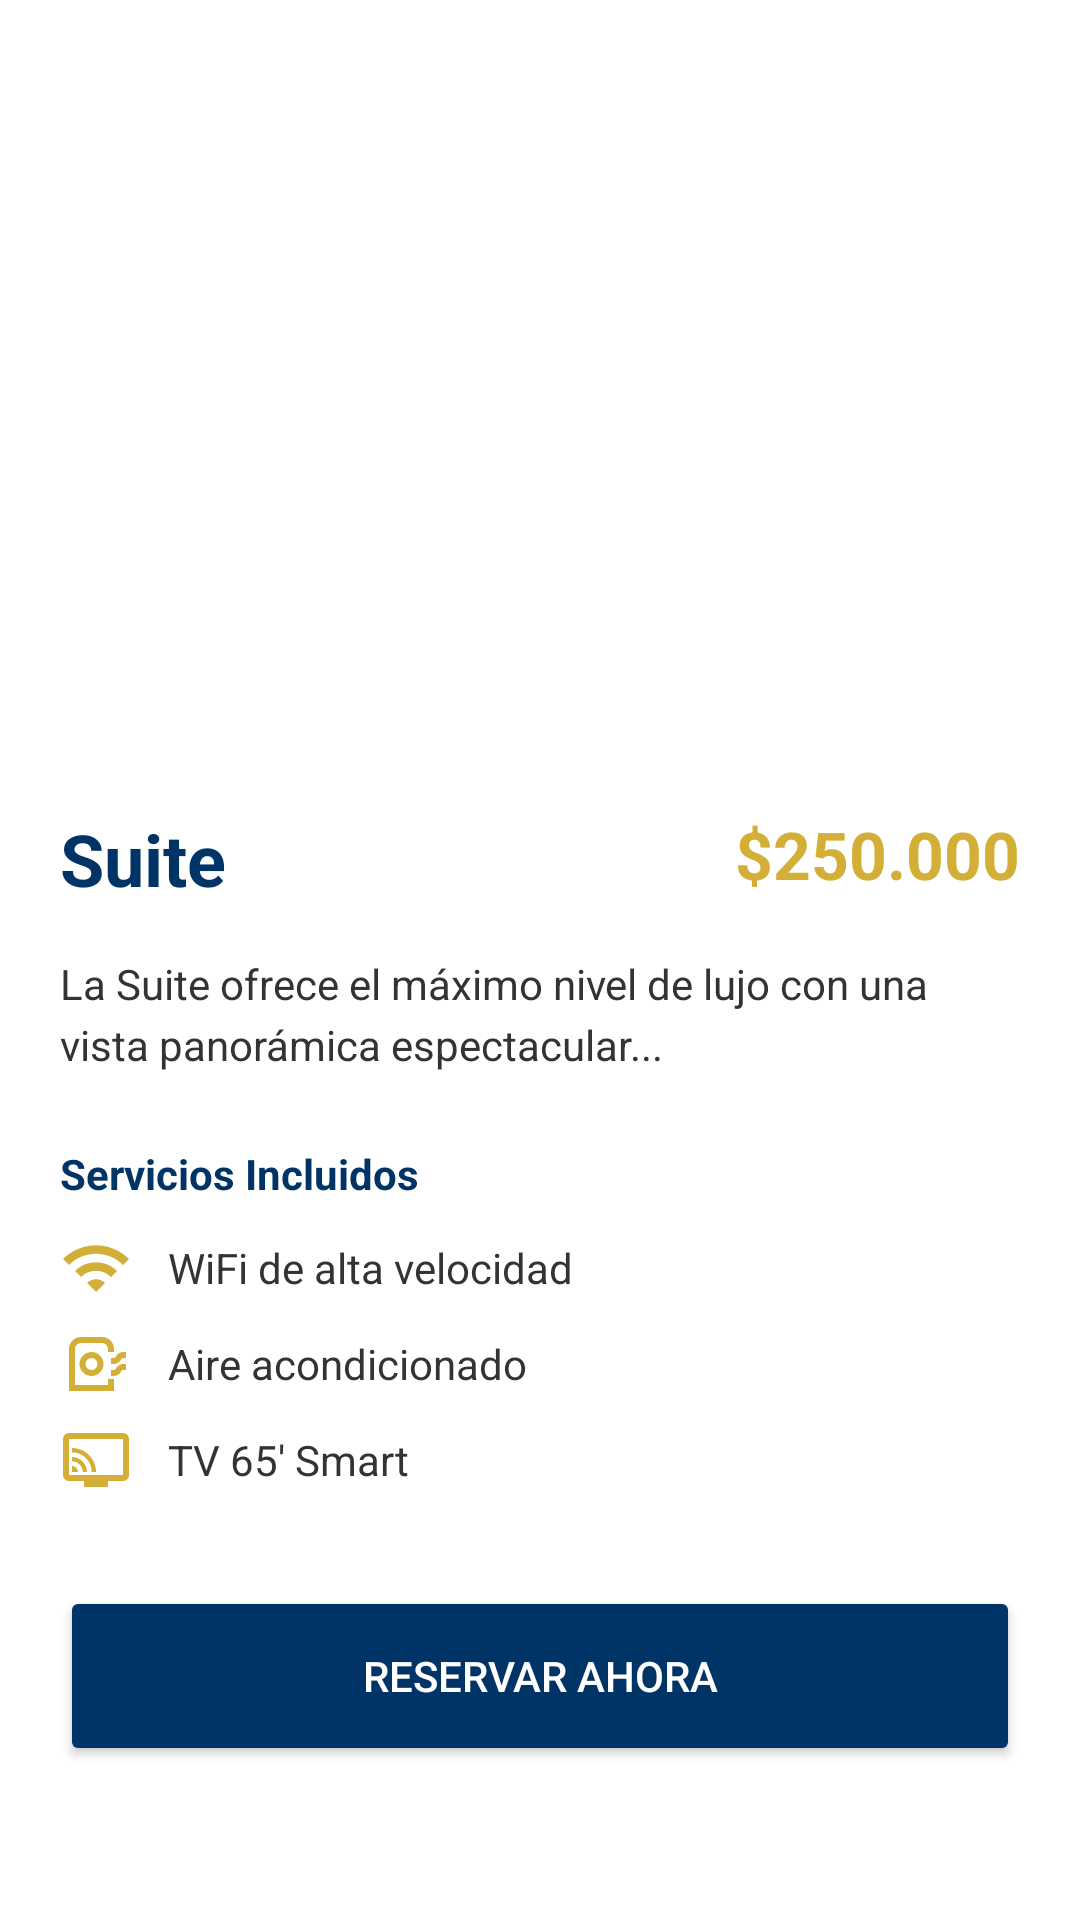

Named icons in this screenshot (1080 x 1920) and their bounding boxes, (x1, y1, x2, y2):
air: (69, 1337, 126, 1391)
